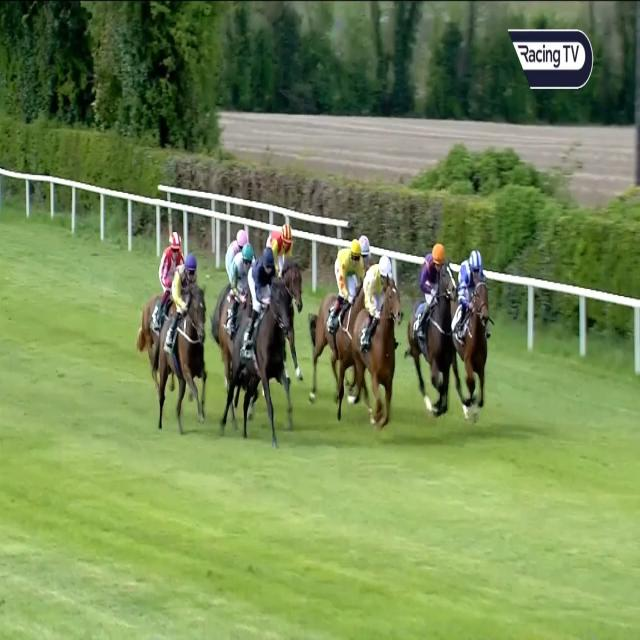horses-racing: (228, 247, 290, 442), (352, 248, 402, 433), (313, 240, 367, 407), (162, 254, 208, 439), (411, 238, 454, 420), (451, 248, 492, 422), (218, 238, 262, 386), (140, 229, 182, 376), (266, 220, 306, 293), (219, 223, 249, 264), (358, 223, 379, 266)
